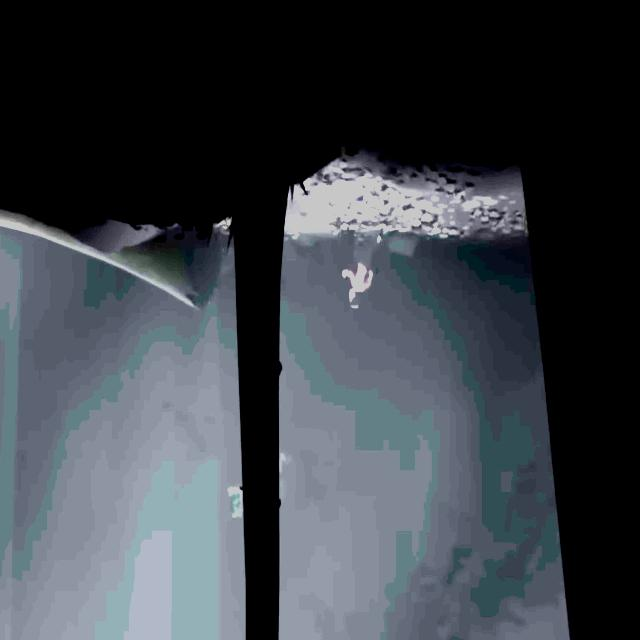boy: (343, 228, 383, 308)
